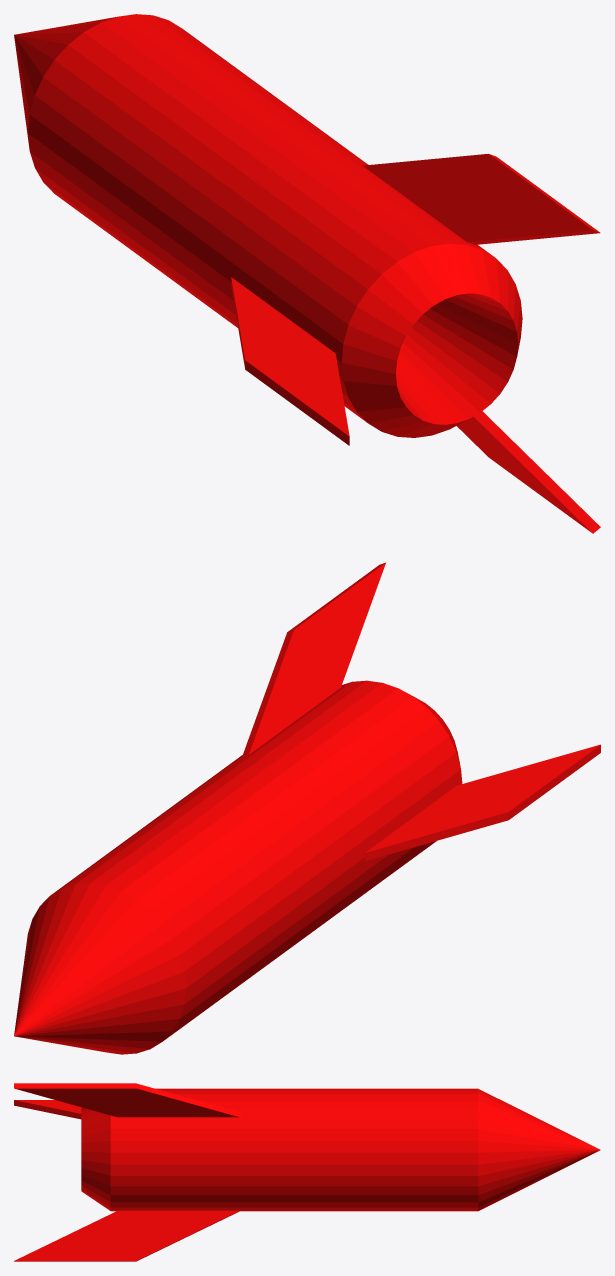
3 views of the same model, one above another, from view 1: azimuth 30°, elevation 25°; view 2: azimuth 150°, elevation 25°; view 3: azimuth 270°, elevation 25° (orthographic). The views are drawn at different scales.
Parts seen in each view (by area): view 1: Cylinder; view 2: Cylinder; view 3: Cylinder.
Part boxes in pixels (x1,y1,x2,y2): Cylinder: (14,14,600,533); Cylinder: (14,562,600,1054); Cylinder: (14,1083,600,1261).
Size of the model in its own units: 52.29 by 59.39 by 178.
